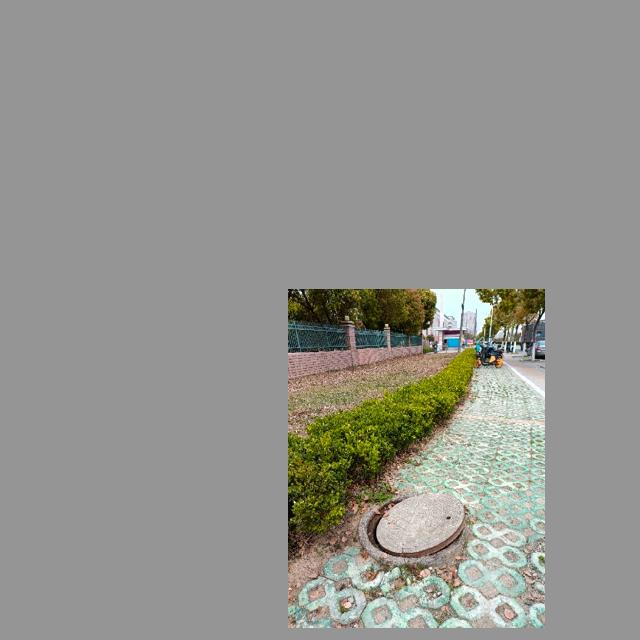uncovered: (358, 492, 473, 564)
